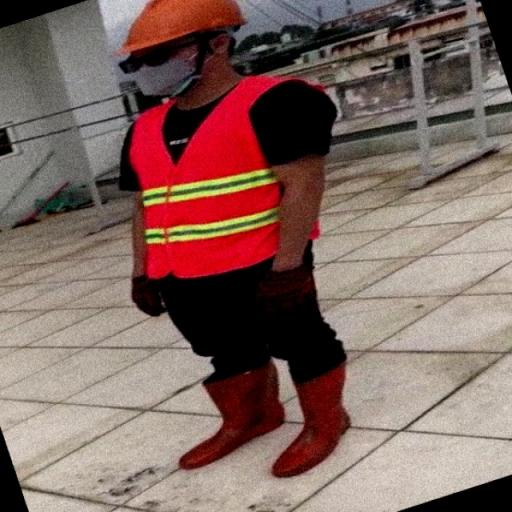Person: (91, 0, 389, 498)
boots: (182, 360, 291, 475), (273, 348, 359, 485)
gloves: (122, 272, 172, 322), (257, 268, 303, 319)
goggles: (117, 40, 219, 78)
helmet: (108, 0, 249, 49)
vest: (104, 65, 317, 272)
